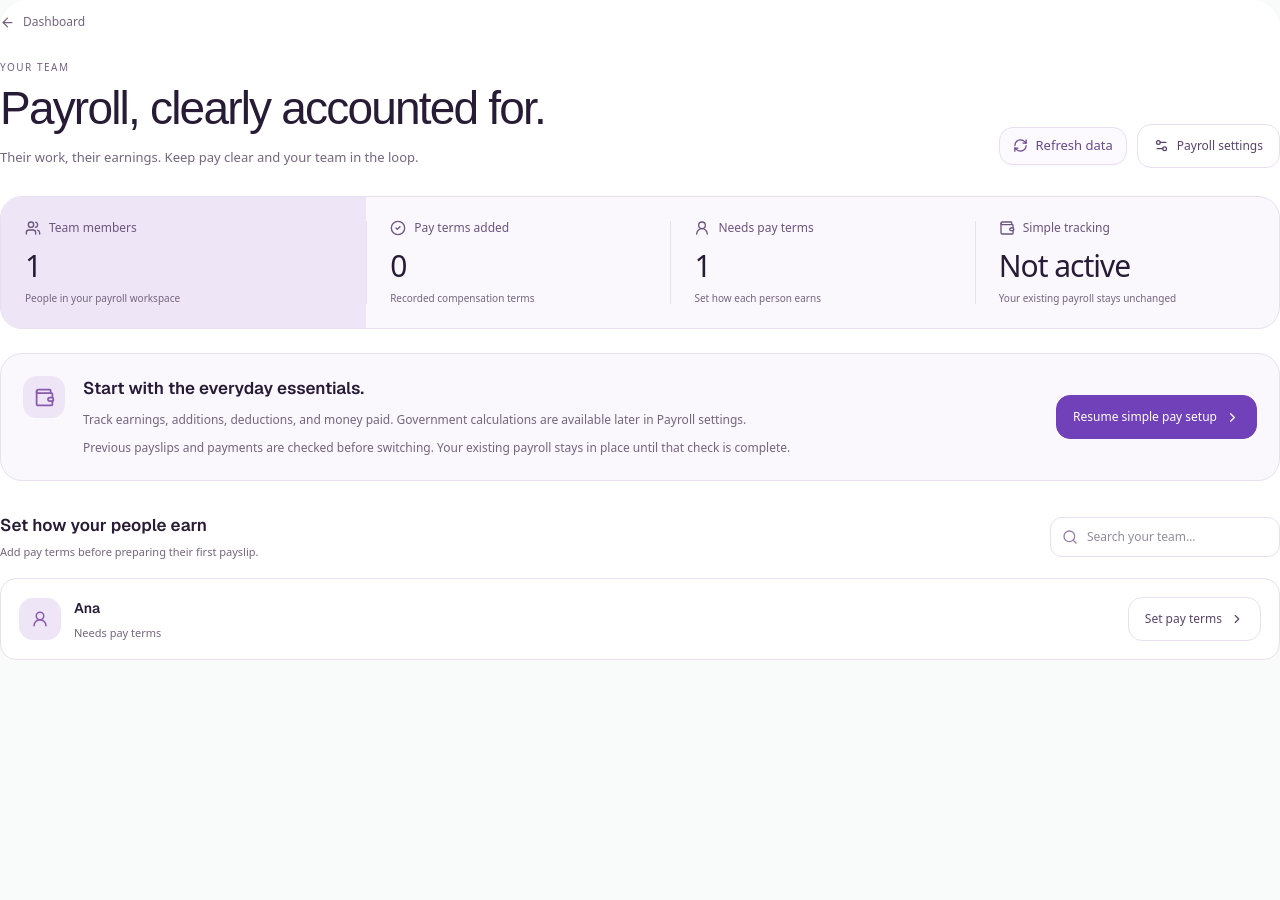
simple payroll › shows setup counts and searchable pay-term rows without implying any payment
The width and height of the screenshot is (1280, 900).
Check: the button named "Set pay terms for Ana" is enabled, box [1128,598,1261,642]
Type "No match" into the field named "Find an employee" at [1165, 537], box [1050,517,1279,557]
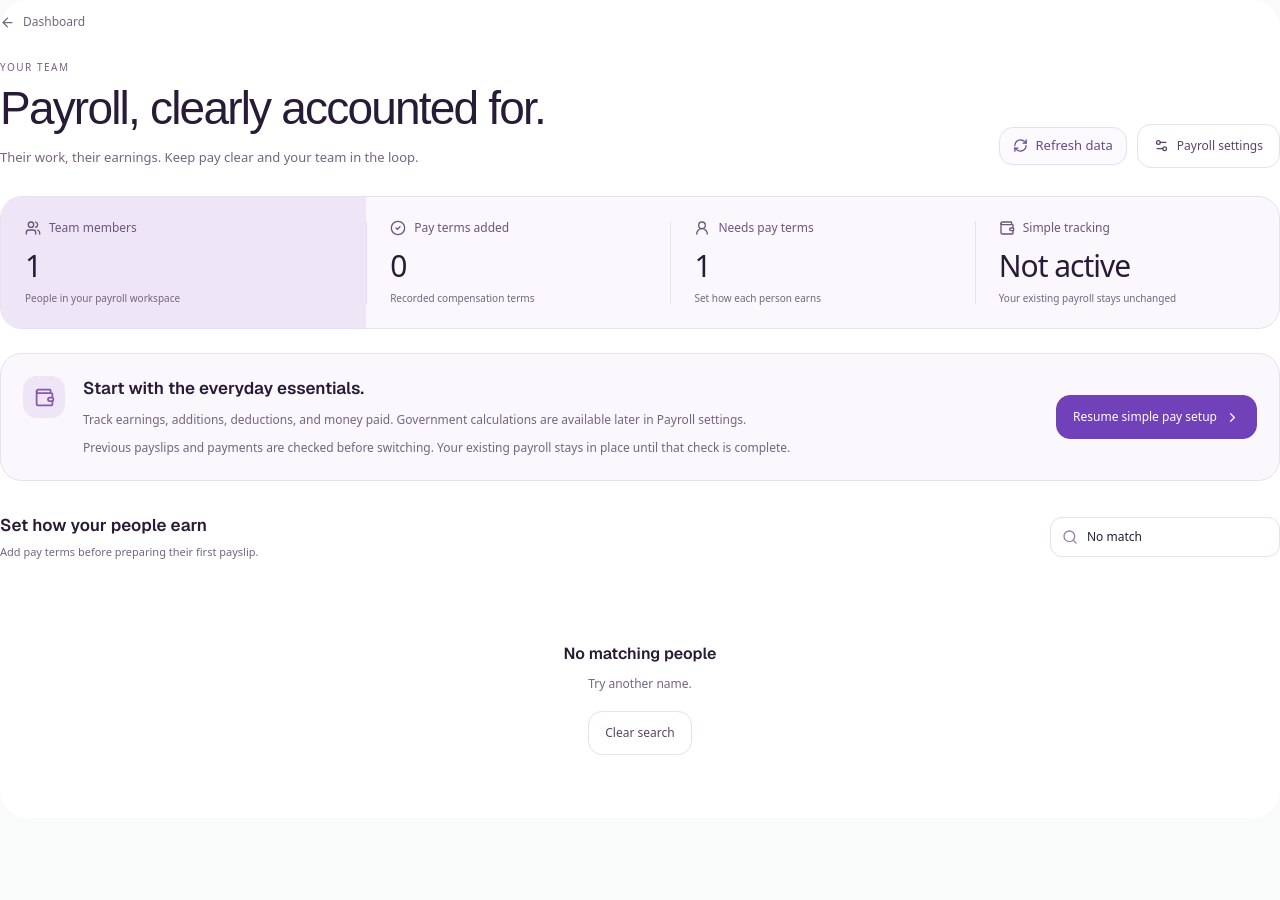
Check: the button "Set pay terms for Ana" is not shown
Click the button "Clear search" at [640, 733], box [588,711,692,755]
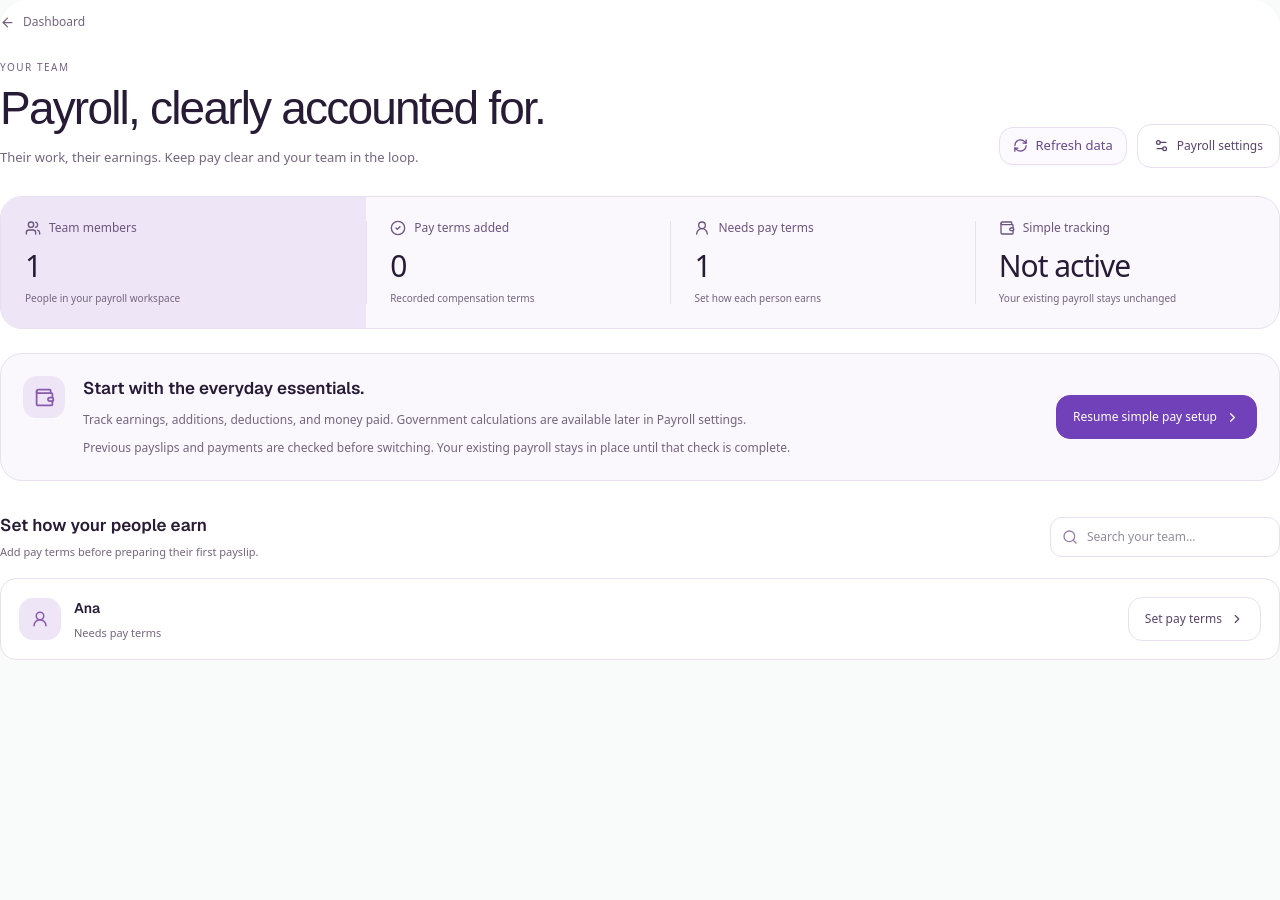
Click the button named "Set pay terms for Ana" at [1194, 620], box [1128,598,1261,642]
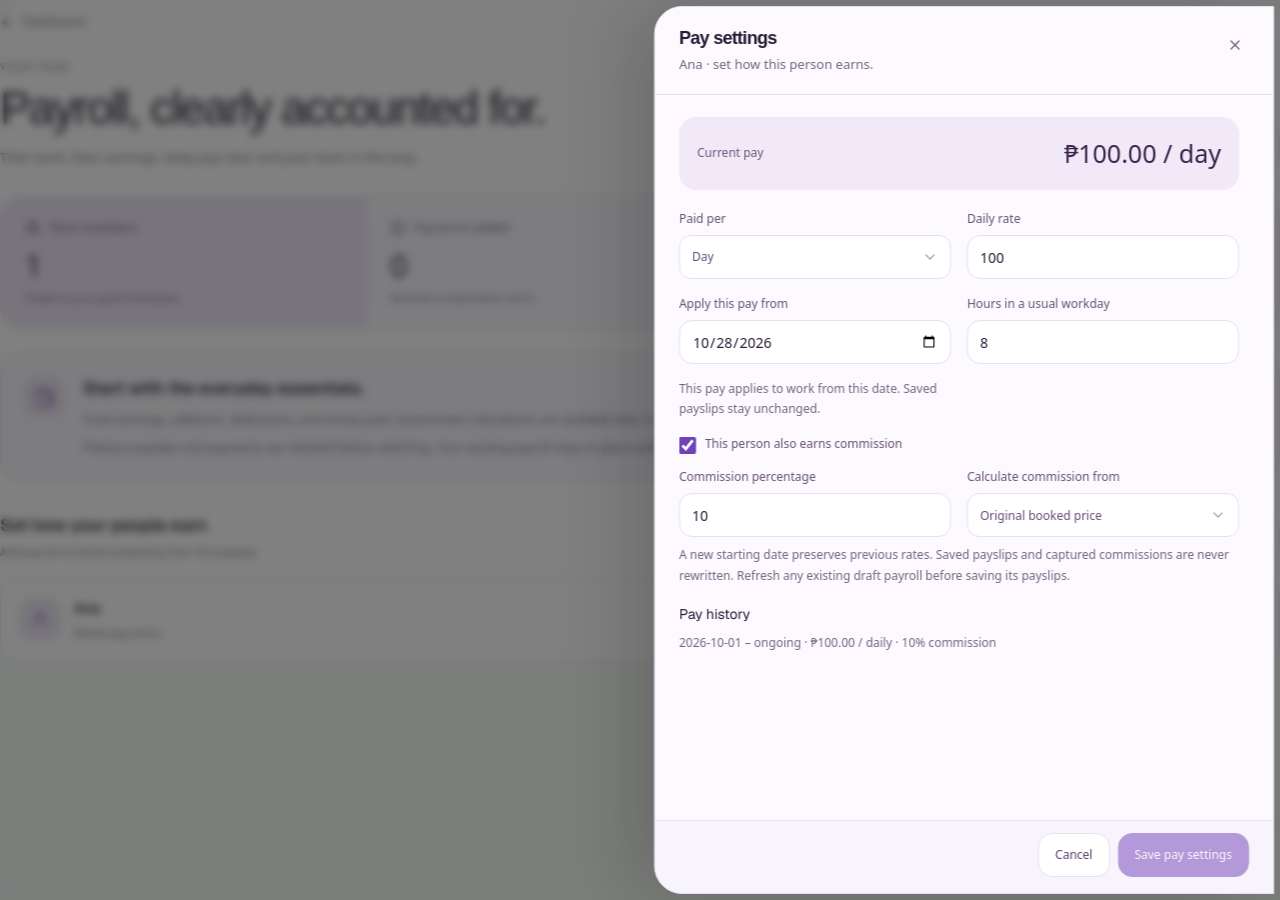
Check: the dialog "Pay settings" is shown, box [654,6,1274,894]
